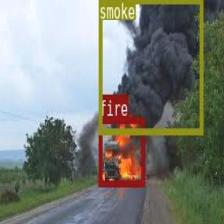fire: (98, 116, 144, 186)
smoke: (98, 0, 202, 134)
